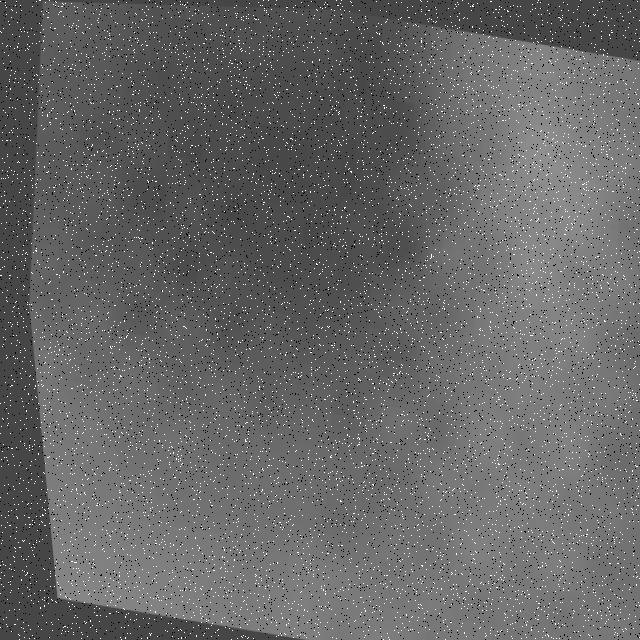person: (337, 18, 640, 602)
